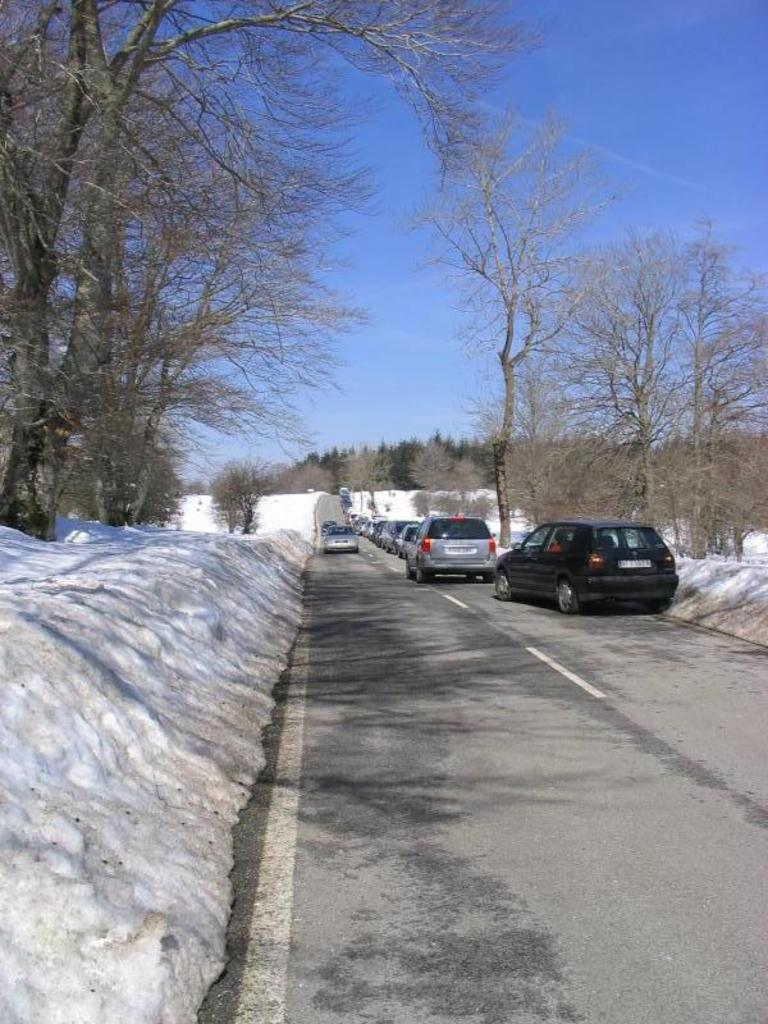Car: (491, 513, 677, 606), (323, 510, 496, 586)
